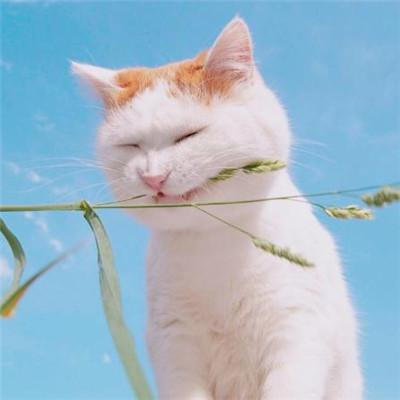cat: (58, 20, 317, 236)
